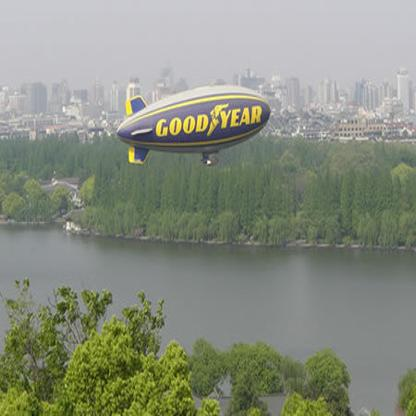Airship: (115, 83, 276, 172)
